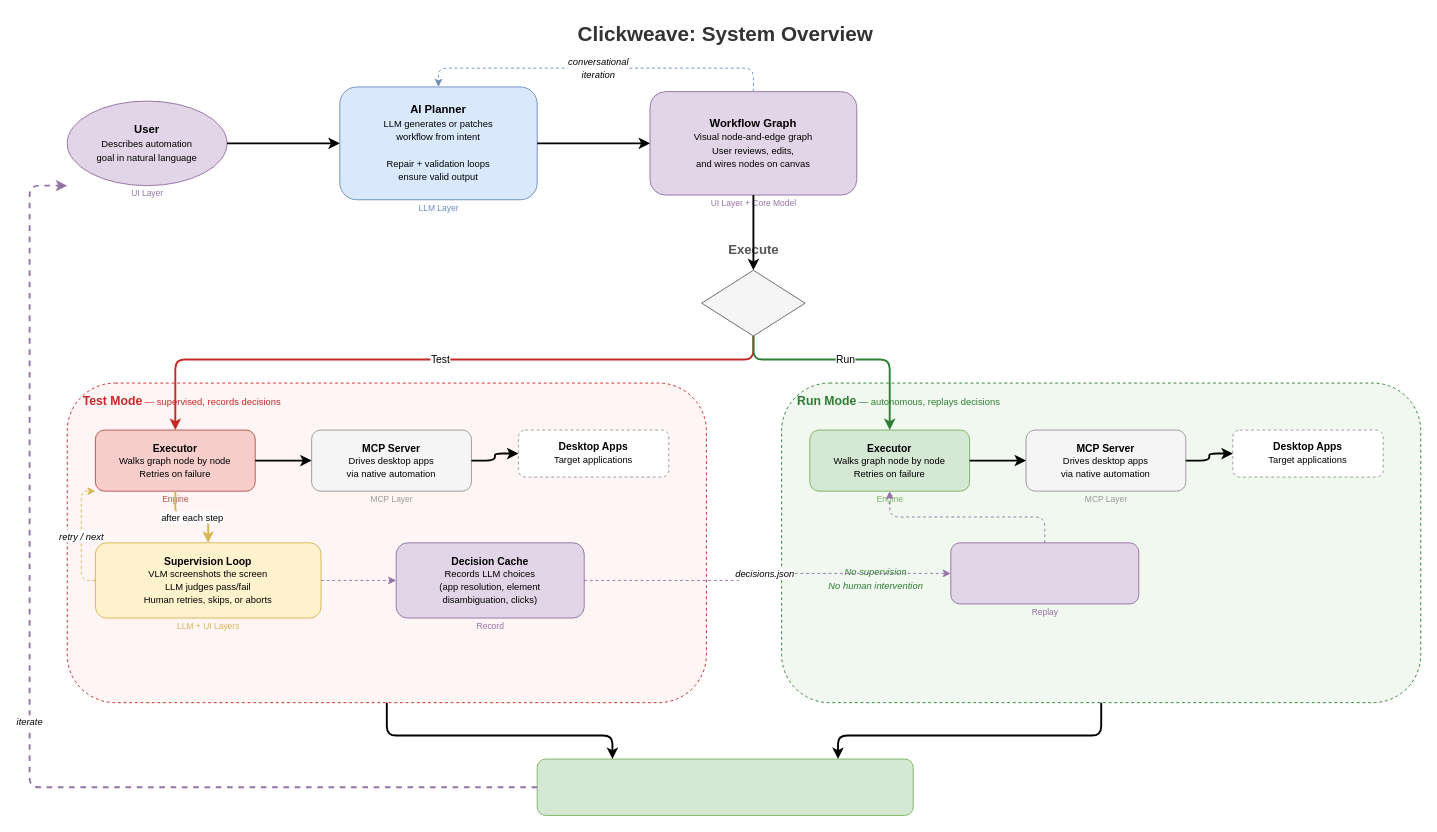
The diagram is 1437 pixels wide and 832 high, and some of its shapes have lost their labels. Here are the shapes that lost their labels. From the top down, the centre of each, then its label:
At pixel 753 302: "Mode?".
At pixel 1044 573: "Decision Cache Replays recorded choices No LLM calls needed".
At pixel 724 786: "Results Traces, artifacts, screenshots, check verdicts".
